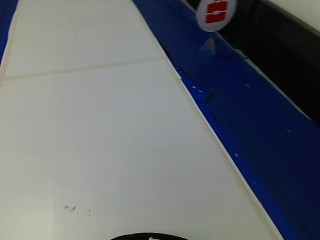company: (195, 0, 238, 33)
